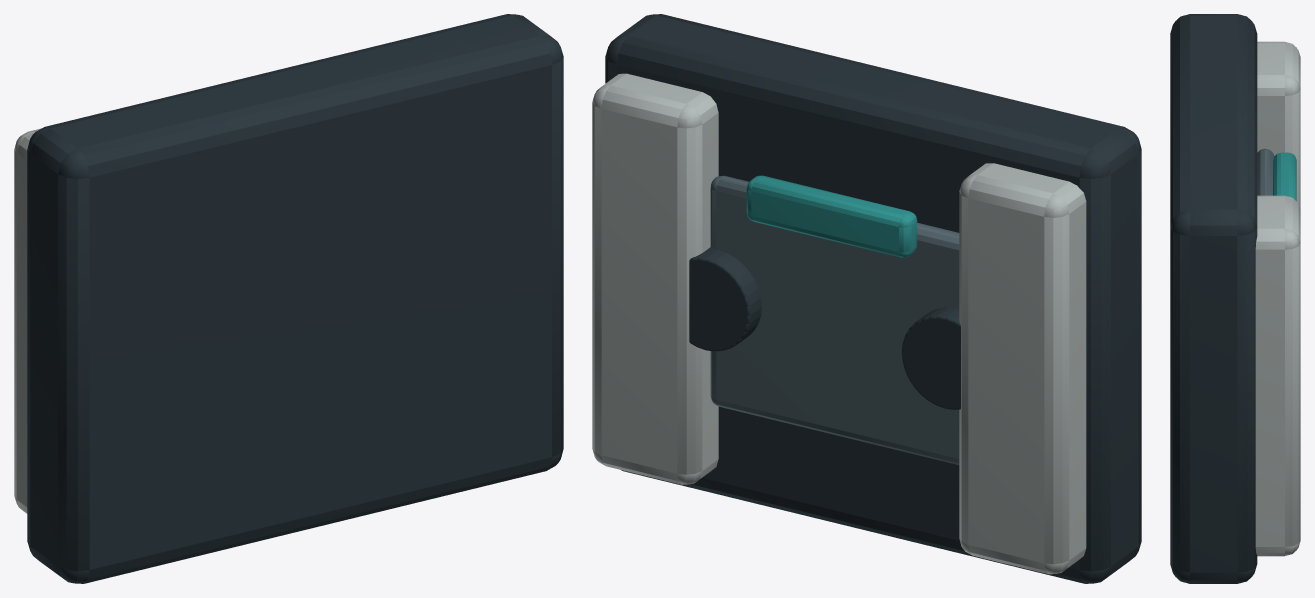
Rendered from SM_Mech_CabinSocket.fbx.
3 renders of one model, left to right at view 1: azimuth 30°, elevation 25°; view 2: azimuth 150°, elevation 25°; view 3: azimuth 270°, elevation 25°, orthographic. The views are drawn at different scales.
Parts seen in each view (by area): view 1: SM_Mech_CabinSocket; view 2: SM_Mech_CabinSocket; view 3: SM_Mech_CabinSocket.
Part boxes in pixels (<box>): SM_Mech_CabinSocket: <box>14,14,563,583</box>; SM_Mech_CabinSocket: <box>592,14,1141,583</box>; SM_Mech_CabinSocket: <box>1170,14,1300,583</box>.
Bounding box in the file's own units: 126 × 33 × 104.
